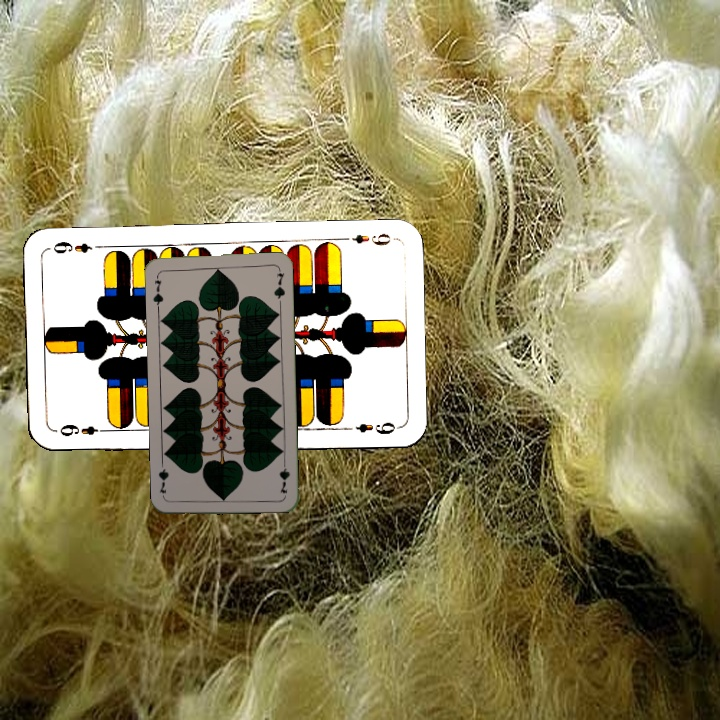E9: (51, 420, 110, 440), (338, 229, 397, 248)
G7: (275, 455, 292, 496), (149, 270, 166, 311)
